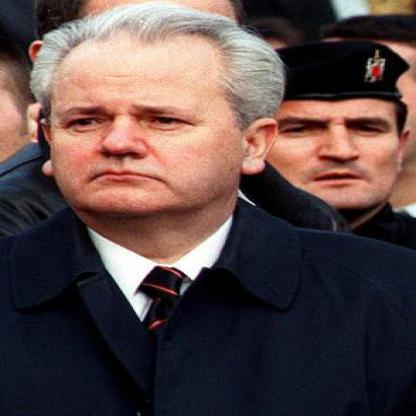face: (32, 14, 253, 224), (249, 53, 413, 215)
